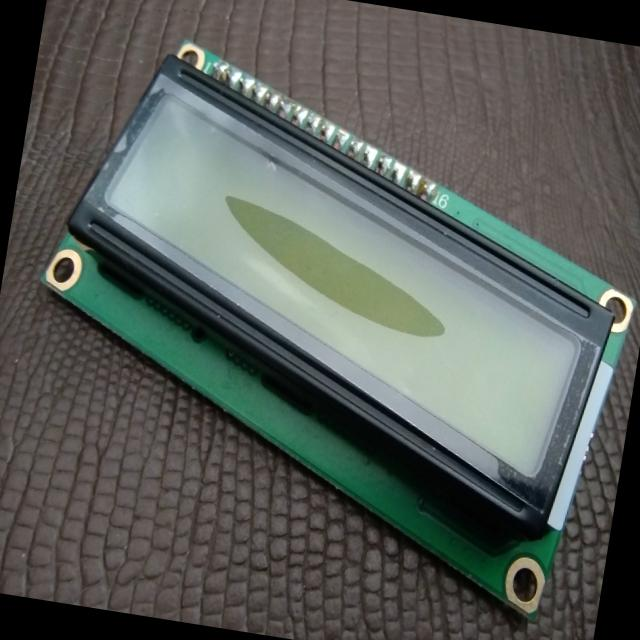lcd: (1, 2, 640, 639)
